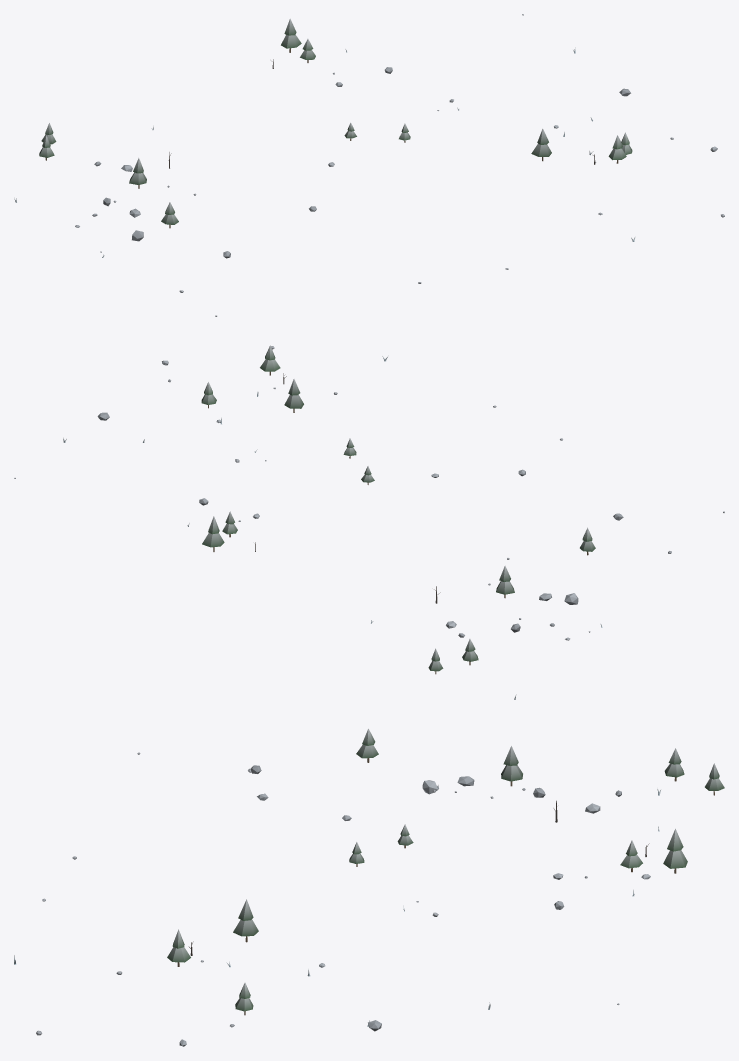
The model's file is frost_land_scatter_c12_12_lod1.glb.
3 views of the same model, one above another, from view 1: azimuth 30°, elevation 25°; view 2: azimuth 150°, elevation 25°; view 3: azimuth 270°, elevation 25° (orthographic). The views are drawn at different scales.
Parts seen in each view (by area): view 1: frost_land_scatter_c12_12_lod1; view 2: frost_land_scatter_c12_12_lod1; view 3: frost_land_scatter_c12_12_lod1.
Boxes of the visible parts, x1,y1,x2,y2 form: frost_land_scatter_c12_12_lod1: (14, 14, 724, 316); frost_land_scatter_c12_12_lod1: (14, 345, 724, 699); frost_land_scatter_c12_12_lod1: (14, 728, 724, 1046).
Bounding box in the file's own units: 244 × 49.79 × 221.
